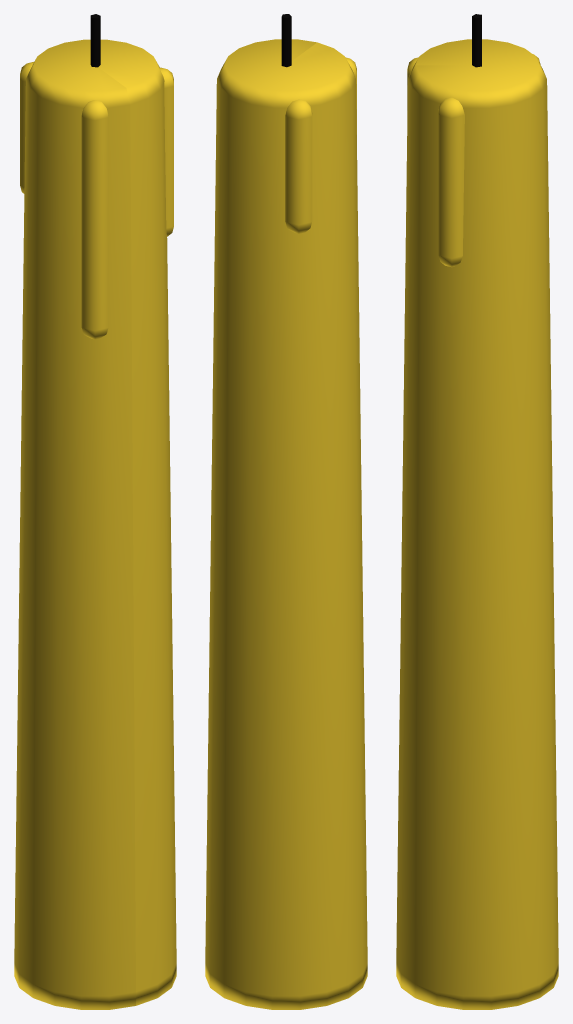
File: candle.glb
3 views of the same model, side by side, from view 1: azimuth 30°, elevation 25°; view 2: azimuth 150°, elevation 25°; view 3: azimuth 270°, elevation 25° (orthographic).
Parts seen in each view (by area): view 1: candle_body, candle_wick; view 2: candle_body, candle_wick; view 3: candle_body, candle_wick.
Part boxes in pixels (<box>): candle_body: <box>14,39,176,1009</box>; candle_wick: <box>90,14,100,67</box>; candle_body: <box>205,39,367,1009</box>; candle_wick: <box>281,14,291,67</box>; candle_body: <box>396,39,558,1009</box>; candle_wick: <box>472,14,481,67</box>.
Bounding box in the file's own units: 0.0414 × 0.274 × 0.042.
